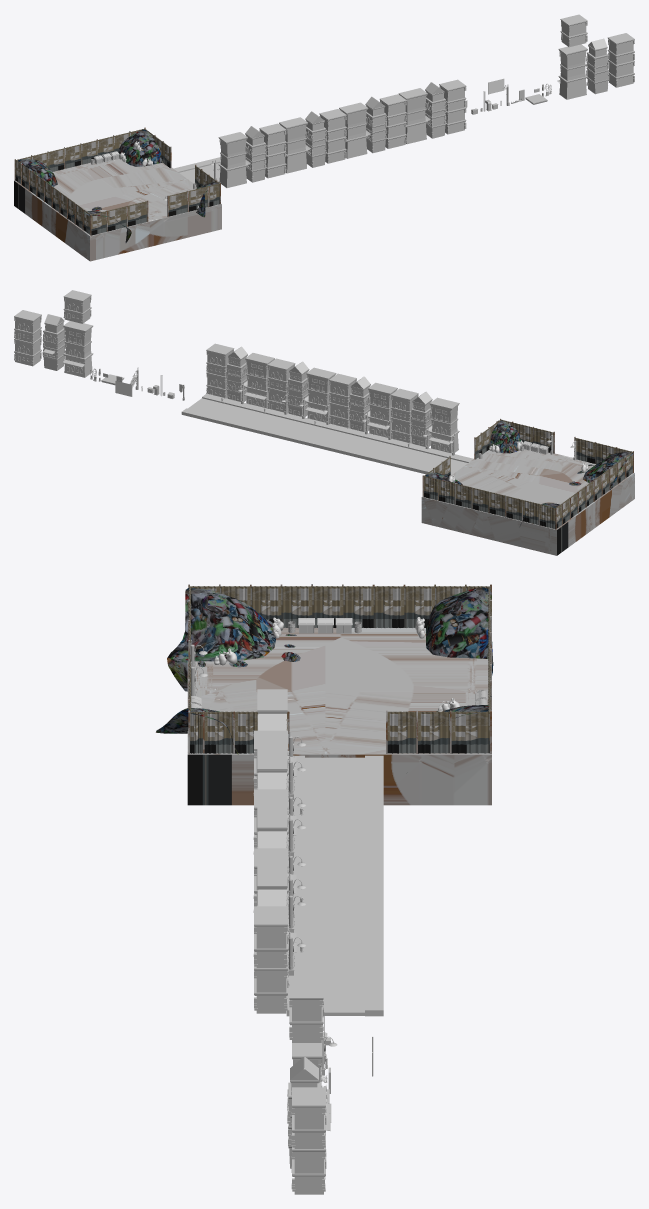
The model's file is Map0.fbx.
The picture shows the model from 3 angles, top to bottom: view 1: azimuth 30°, elevation 25°; view 2: azimuth 150°, elevation 25°; view 3: azimuth 270°, elevation 25°; orthographic projection. The views are drawn at different scales.
Visible parts, largest first — view 1: Cube.027, Plane.026, Cube.025, Cube.003, Cube.006, Cube.019, Cube.022, Cube.010, Cube.020, Cube.023, Cube.011, Cube.007 (+10 smaller); view 2: Cube.027, Cube.009, Plane.026, Cube.003, Cube.006, Cube.025, Cube.019, Cube.010, Cube.022, Cube.004, Cube.007, Cube.020 (+10 smaller); view 3: Cube.027, Cube.009, Plane.026, Plane.005, Plane.004, Cube.006, Cube.007, Cube.005, Cube.004, Plane.001, Cube.019, Cube.010 (+4 smaller).
Boxes of the visible parts, x1,y1,x2,y2 form: Cube.027: (14,159,221,261); Plane.026: (15,128,220,235); Cube.025: (217,132,247,187); Cube.003: (557,44,587,99); Cube.006: (607,33,634,87); Cube.019: (339,102,368,158); Cube.022: (279,117,307,173); Cube.010: (398,88,427,144); Cube.020: (319,109,346,163); Cube.023: (259,123,286,178); Cube.011: (379,94,406,148); Cube.007: (439,79,466,134); Cube.027: (421,449,634,555); Cube.009: (181,394,473,475); Plane.026: (423,419,632,529); Cube.003: (62,321,93,377); Cube.006: (14,310,41,366); Cube.025: (428,397,459,453); Cube.019: (305,367,336,422); Cube.010: (244,353,274,408); Cube.022: (367,382,397,437); Cube.004: (42,314,65,370); Cube.007: (206,343,234,398); Cube.020: (329,373,356,428); Cube.027: (187,627,491,805); Cube.009: (286,755,383,1016); Plane.026: (188,586,490,753); Plane.005: (167,588,300,691); Plane.004: (426,587,493,675); Cube.006: (291,1087,326,1194); Cube.007: (253,906,288,1013); Cube.005: (289,979,323,1042); Cube.004: (287,1057,330,1168); Plane.001: (188,584,491,753); Cube.019: (257,806,296,894); Cube.010: (257,864,296,952).
Bounding box in the file's own units: 31077 × 4915 × 7947.
